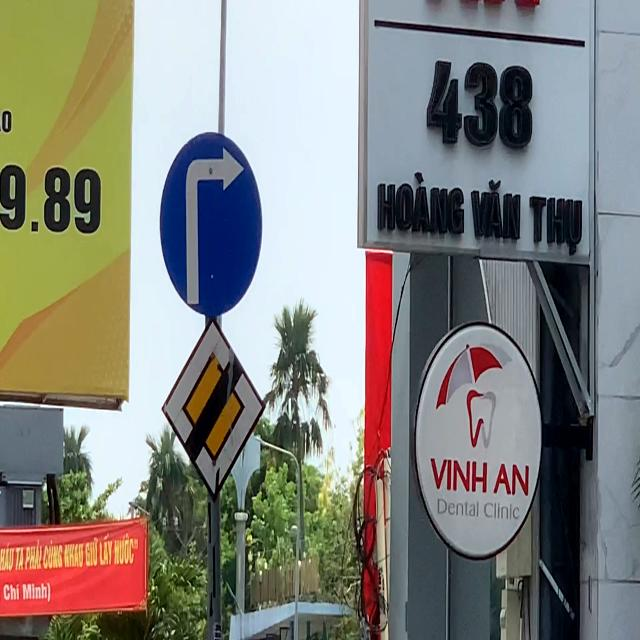R.301d: (160, 130, 268, 318)
